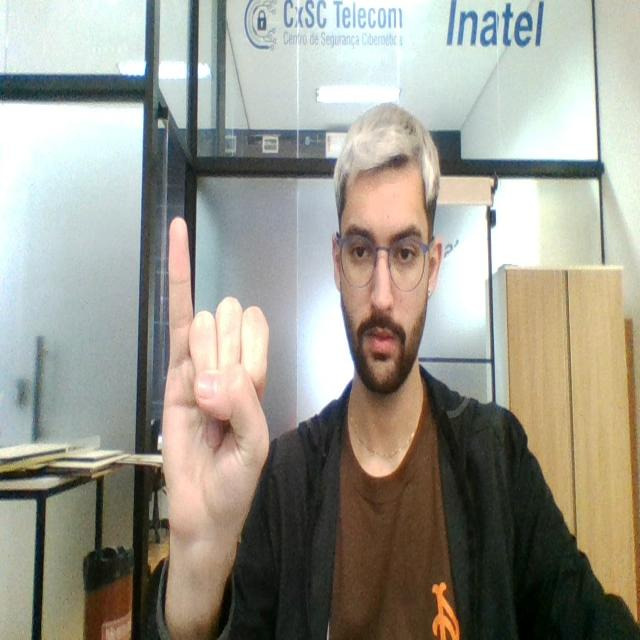I: (154, 210, 270, 556)
